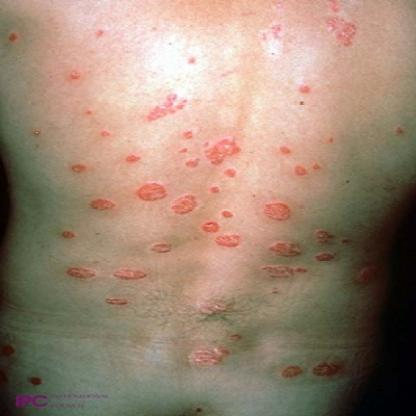Psoriasis: (196, 133, 251, 169), (320, 8, 360, 51), (150, 91, 194, 128), (184, 342, 230, 369), (166, 192, 209, 218), (258, 262, 308, 281), (268, 234, 300, 261), (262, 199, 294, 225), (134, 181, 168, 205), (68, 264, 98, 288), (100, 292, 135, 312), (110, 268, 153, 282), (214, 233, 244, 252), (315, 361, 345, 379), (90, 197, 120, 212), (65, 160, 90, 177), (279, 364, 309, 378)
